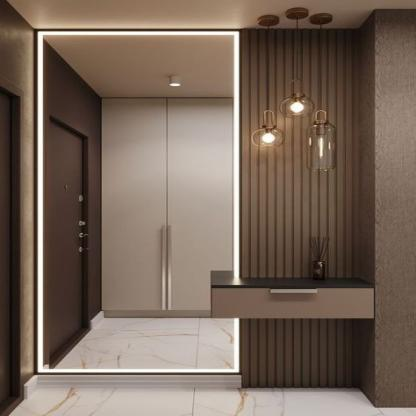Ceramic floor: (9, 385, 416, 416)
